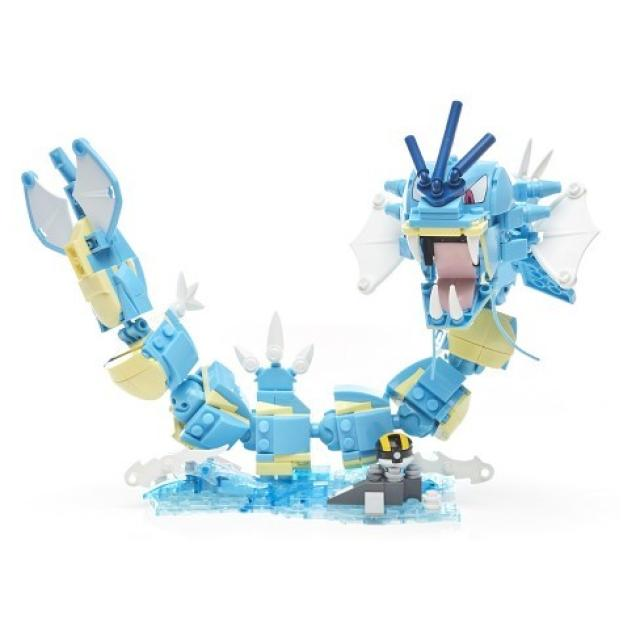Gyarados: (15, 88, 600, 536)
